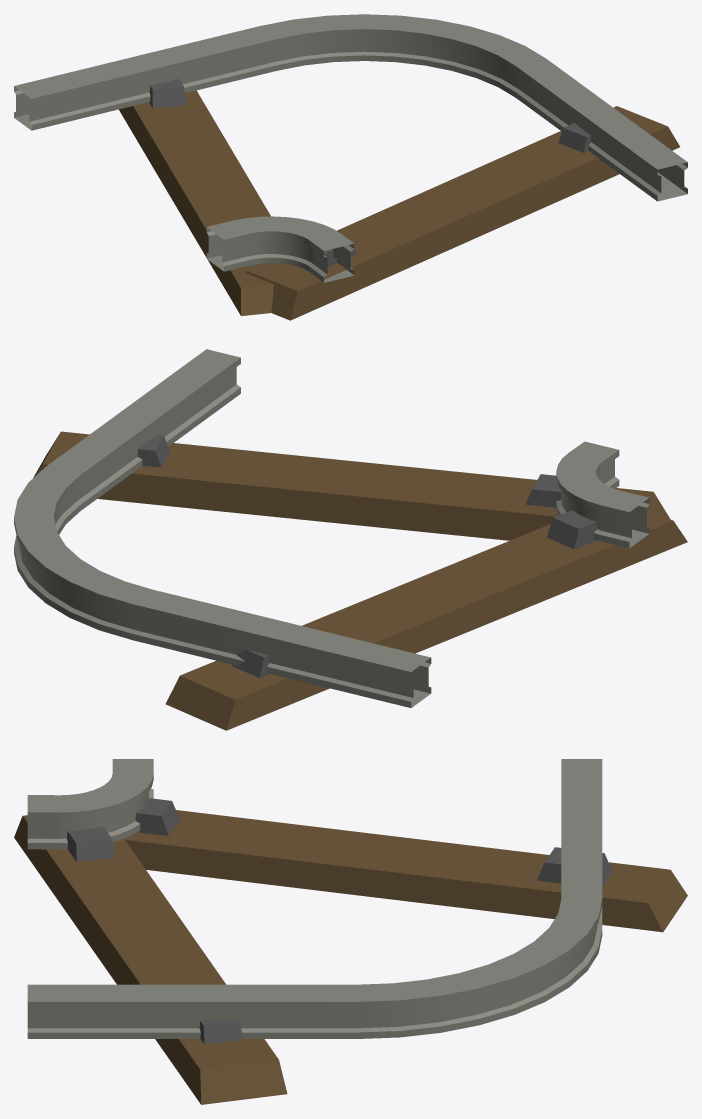
The picture shows the model from 3 angles, top to bottom: view 1: azimuth 30°, elevation 25°; view 2: azimuth 150°, elevation 25°; view 3: azimuth 270°, elevation 25°; orthographic projection. The views are drawn at different scales.
Visible parts, largest first — view 1: Modular_Rail2; view 2: Modular_Rail2; view 3: Modular_Rail2.
Part boxes in pixels (x1,y1,x2,y2): Modular_Rail2: (14,14,687,320); Modular_Rail2: (14,349,687,730); Modular_Rail2: (14,759,687,1104).
Size of the model in its own units: 2.05 by 0.217 by 2.04.
Materials: 1 (1 with a texture image).
